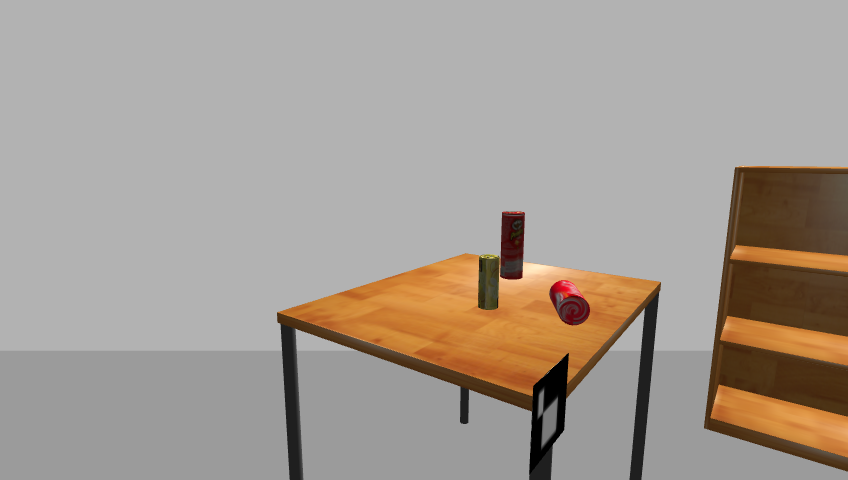aruco marker: (527, 354, 571, 479)
biscuits pack: (477, 254, 500, 311)
bookshelf: (701, 166, 848, 480)
coke can: (547, 280, 592, 326)
dinner table: (269, 252, 671, 480)
pringles can: (499, 211, 527, 282)
